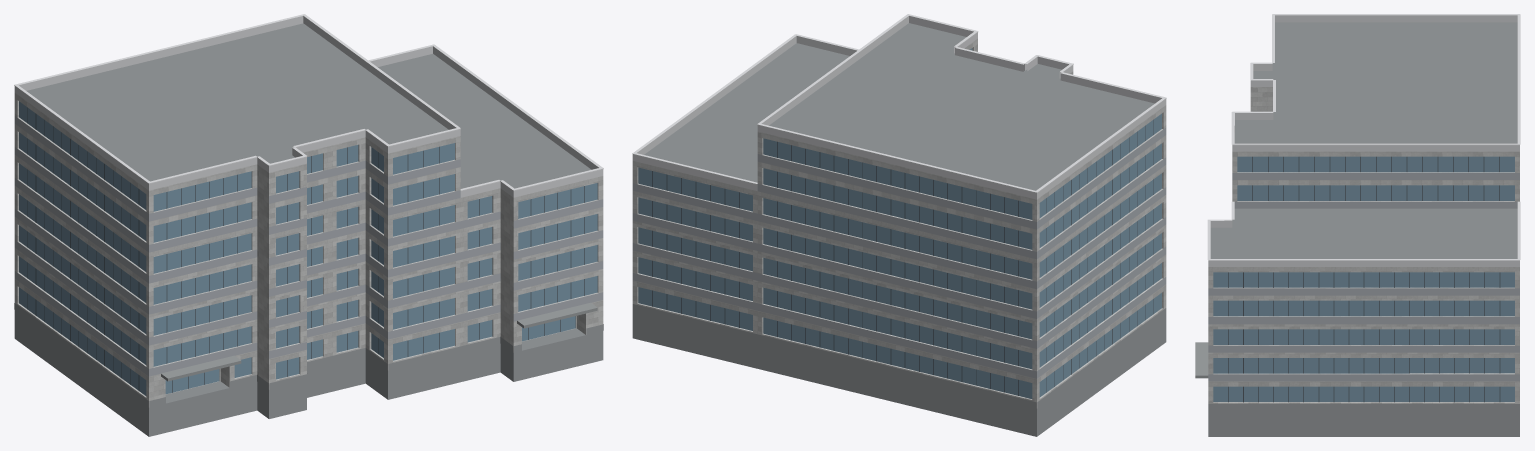
3 views of the same model, side by side, from view 1: azimuth 30°, elevation 25°; view 2: azimuth 150°, elevation 25°; view 3: azimuth 270°, elevation 25° (orthographic). The views are drawn at different scales.
Parts seen in each view (by area): view 1: globalCenter__glass, globalCenter__roof, globalCenter__wall, globalCenter__wall2, globalCenter__base, globalCenter__parapet, globalCenter__frame, globalCenter__trim, globalCenter__canopy; view 2: globalCenter__glass, globalCenter__roof, globalCenter__wall, globalCenter__wall2, globalCenter__base, globalCenter__parapet, globalCenter__frame, globalCenter__trim; view 3: globalCenter__roof, globalCenter__glass, globalCenter__wall, globalCenter__wall2, globalCenter__base, globalCenter__parapet, globalCenter__trim, globalCenter__frame, globalCenter__canopy.
Part boxes in pixels (x1=…): globalCenter__glass: x1=19, y1=101, x2=597, y2=395; globalCenter__roof: x1=26, y1=23, x2=591, y2=403; globalCenter__wall: x1=14, y1=93, x2=603, y2=407; globalCenter__wall2: x1=14, y1=116, x2=603, y2=376; globalCenter__base: x1=14, y1=303, x2=603, y2=436; globalCenter__parapet: x1=14, y1=16, x2=603, y2=197; globalCenter__frame: x1=27, y1=107, x2=584, y2=392; globalCenter__trim: x1=14, y1=14, x2=603, y2=191; globalCenter__canopy: x1=161, y1=302, x2=597, y2=381; globalCenter__glass: x1=638, y1=48, x2=1161, y2=398; globalCenter__roof: x1=644, y1=23, x2=1154, y2=190; globalCenter__wall: x1=632, y1=38, x2=1166, y2=408; globalCenter__wall2: x1=632, y1=127, x2=1166, y2=378; globalCenter__base: x1=632, y1=304, x2=1166, y2=436; globalCenter__parapet: x1=632, y1=16, x2=1166, y2=199; globalCenter__frame: x1=652, y1=119, x2=1153, y2=395; globalCenter__trim: x1=632, y1=14, x2=1166, y2=193; globalCenter__roof: x1=1210, y1=22, x2=1517, y2=258; globalCenter__glass: x1=1213, y1=156, x2=1514, y2=401; globalCenter__wall: x1=1208, y1=87, x2=1519, y2=403; globalCenter__wall2: x1=1208, y1=173, x2=1519, y2=381; globalCenter__base: x1=1208, y1=404, x2=1519, y2=436; globalCenter__parapet: x1=1208, y1=15, x2=1519, y2=266; globalCenter__trim: x1=1207, y1=14, x2=1520, y2=260; globalCenter__frame: x1=1228, y1=156, x2=1500, y2=402; globalCenter__canopy: x1=1195, y1=342, x2=1208, y2=378.
Size of the model in its own units: 52.51 by 30.3 by 38.16.
10 materials, 1 textured.
